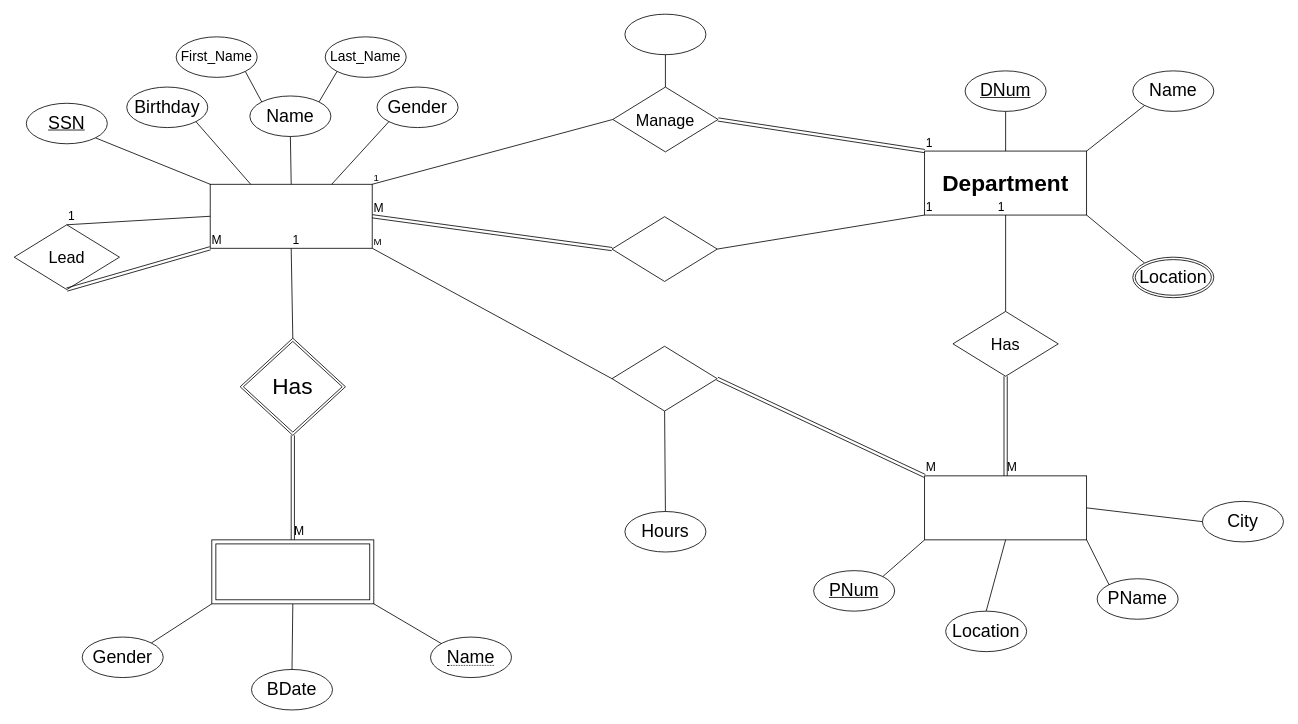
Image size: 1298x724. Some labels were removed from this diagram. Here are the shapes that lost their labels. From the top down, the box of each, then its label:
(624, 13, 706, 55): Hire_Date
(209, 183, 372, 248): Employee
(611, 216, 717, 281): WorksIn
(611, 345, 717, 411): WorksOn
(924, 475, 1087, 540): Project
(211, 539, 374, 604): Dependent
